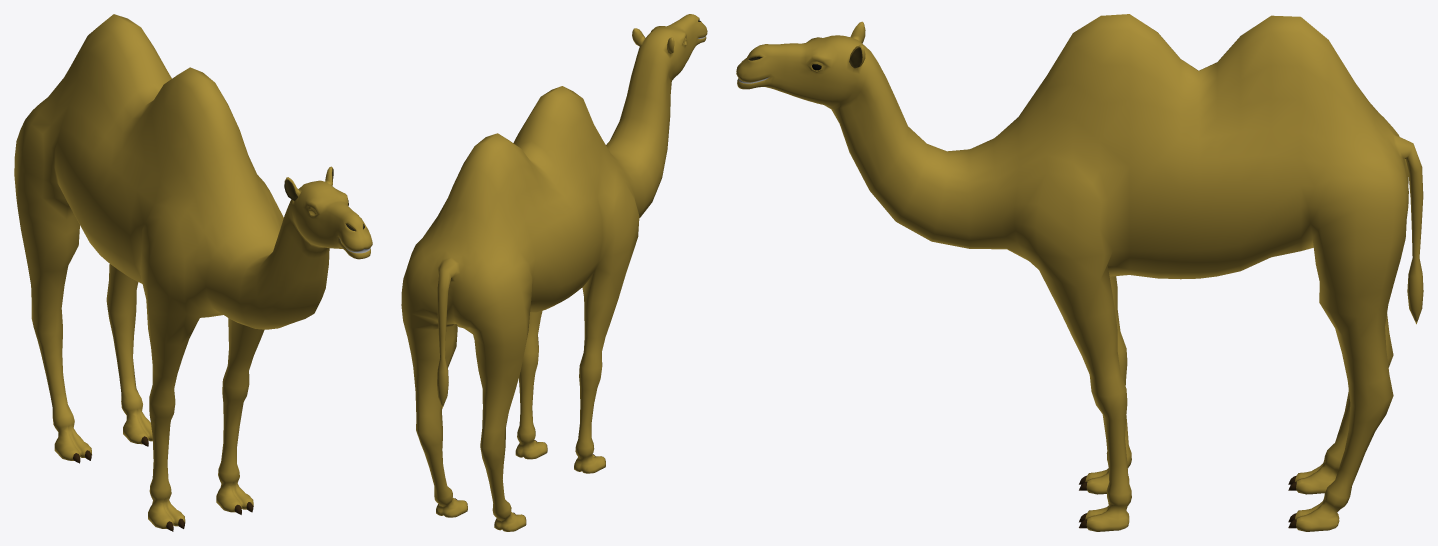
The model's file is bactrian_camel.obj.
3 renders of one model, left to right at view 1: azimuth 30°, elevation 25°; view 2: azimuth 150°, elevation 25°; view 3: azimuth 270°, elevation 25°, orthographic. The views are drawn at different scales.
Visible parts, largest first — view 1: bactrian_camel; view 2: bactrian_camel; view 3: bactrian_camel.
Boxes of the visible parts, x1,y1,x2,y2 form: bactrian_camel: (14,14,372,531); bactrian_camel: (401,14,707,531); bactrian_camel: (736,14,1423,531).
Bounding box in the file's own units: 0.7147 × 2.1 × 2.65.
